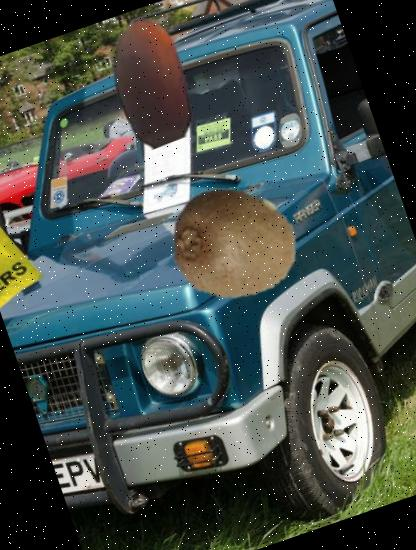Hazelnut: (68, 0, 236, 163)
Kiwi: (153, 163, 316, 326)
